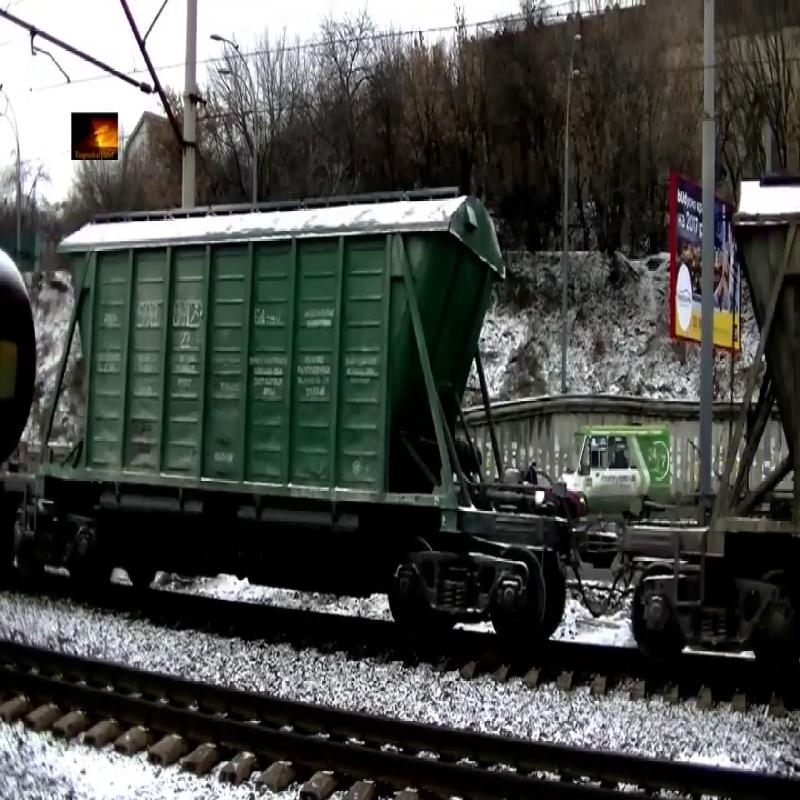train: (44, 180, 509, 539), (708, 170, 800, 579), (1, 235, 37, 511)
